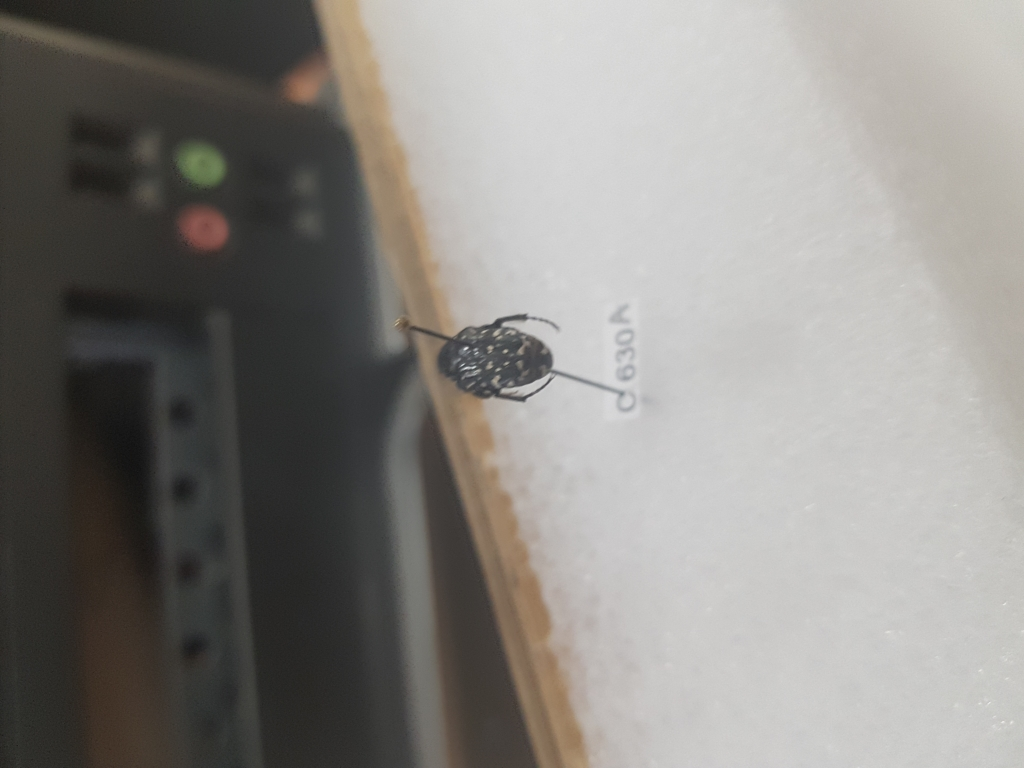Oxythyrea_albopicta: (431, 308, 566, 414)
